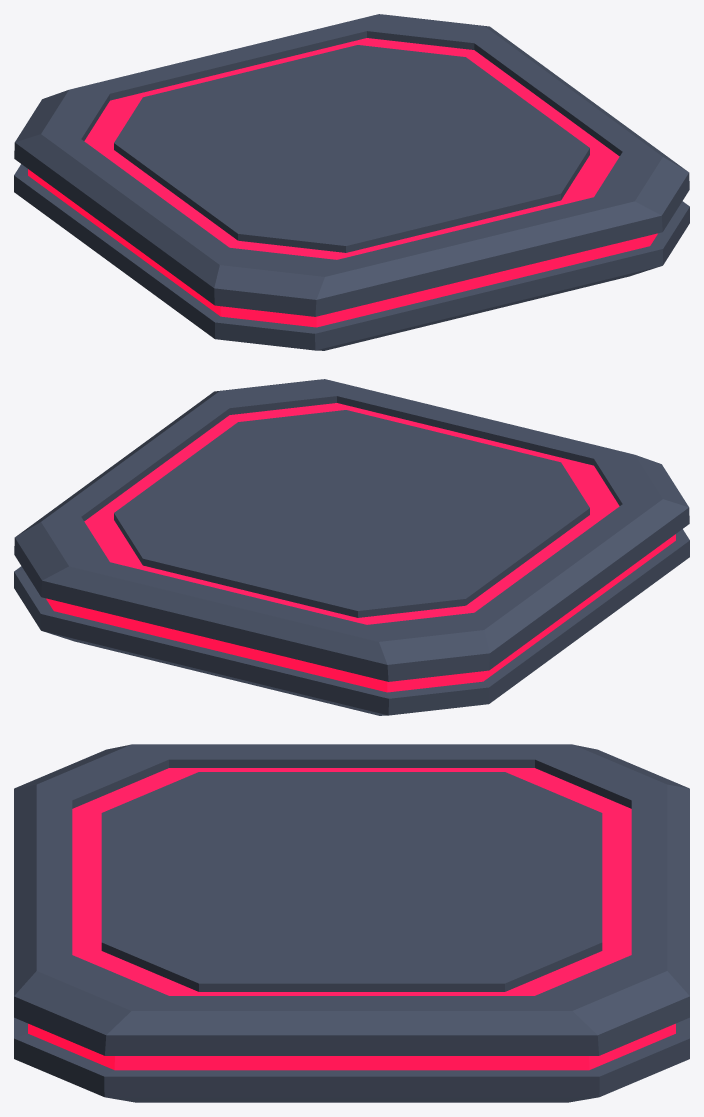
File: floating-platform.fbx
3 views of the same model, one above another, from view 1: azimuth 30°, elevation 25°; view 2: azimuth 150°, elevation 25°; view 3: azimuth 270°, elevation 25° (orthographic). The views are drawn at different scales.
Parts seen in each view (by area): view 1: Cube.010; view 2: Cube.010; view 3: Cube.010.
Part boxes in pixels (x1,y1,x2,y2): Cube.010: [14, 14, 689, 350]; Cube.010: [14, 379, 689, 715]; Cube.010: [14, 744, 689, 1102].
Size of the model in its own units: 200 by 30.88 by 200.
